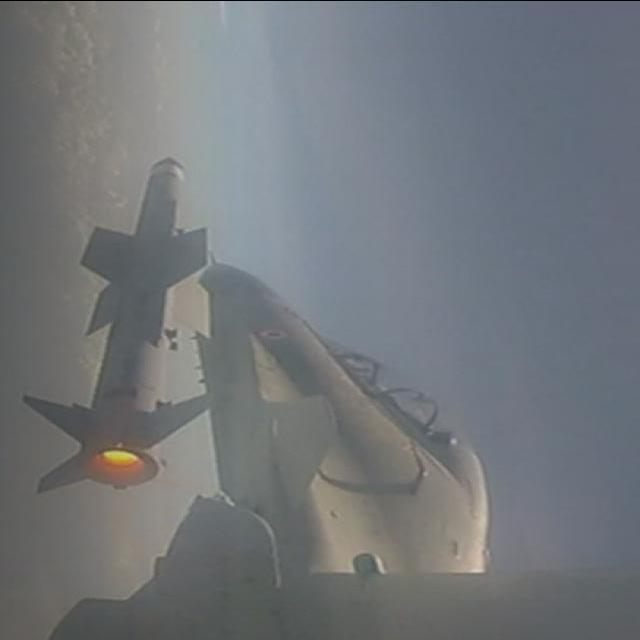missile: (29, 157, 210, 502)
